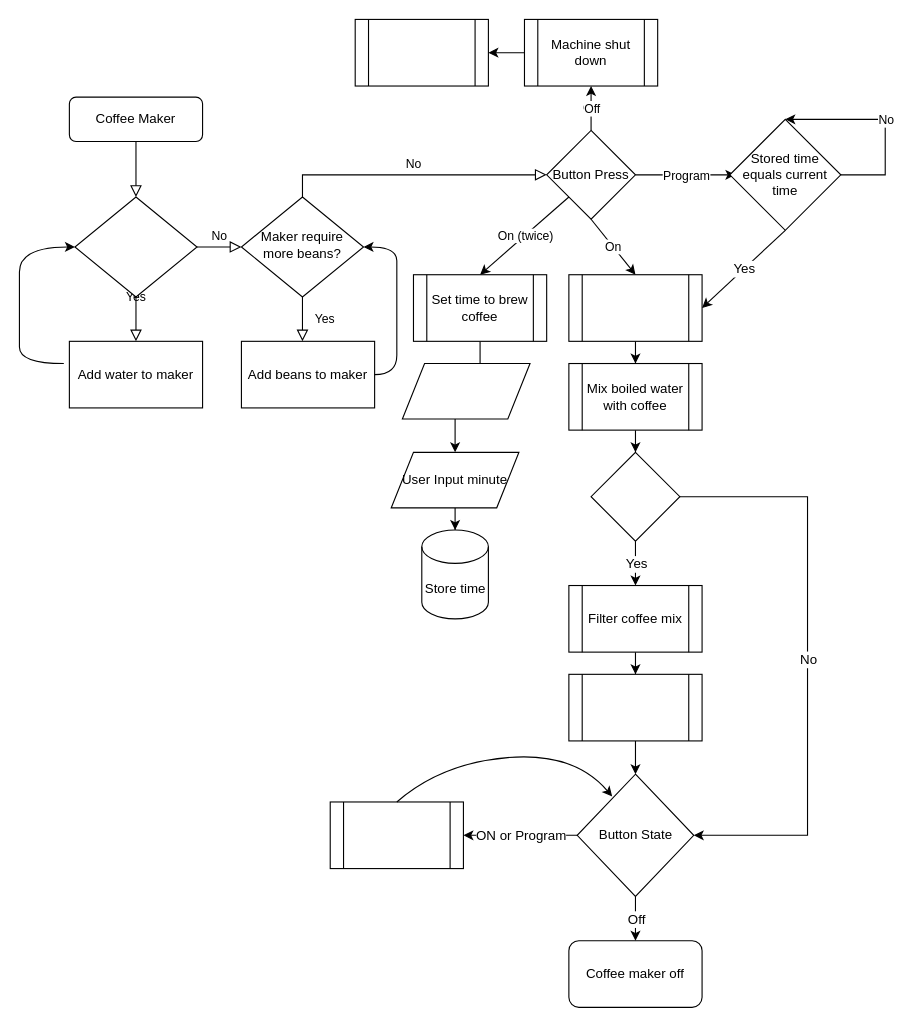
Image size: 914x1027. Some labels were removed from this diagram. The shapes that lost their labels are listed below. From the top down, each one's centre as x and y in pixels, then its label:
At (421,52): "Display current time".
At (135,246): "Maker require more water?".
At (635,307): "Begin boiling water".
At (465,390): "User Input hour".
At (635,496): "Enough Water".
At (635,707): "Dispense into cup".
At (396,835): "Keep coffee warm".
